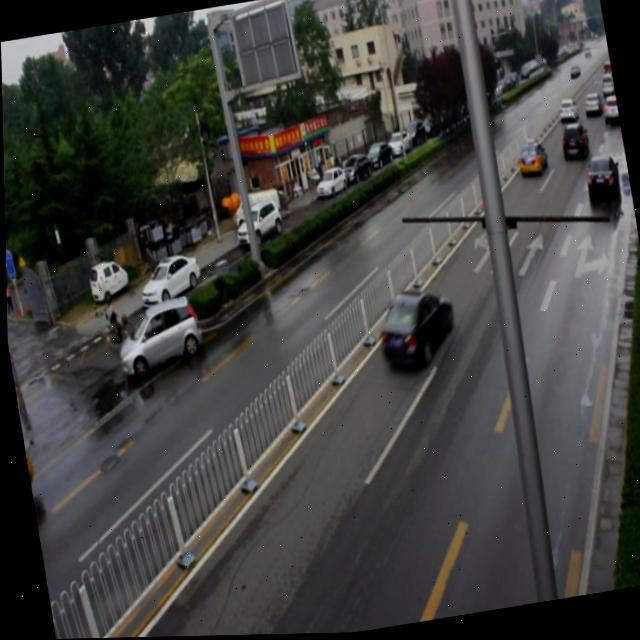car: (110, 291, 204, 380), (370, 282, 459, 375), (580, 153, 620, 207), (556, 123, 588, 166), (515, 141, 548, 182)
